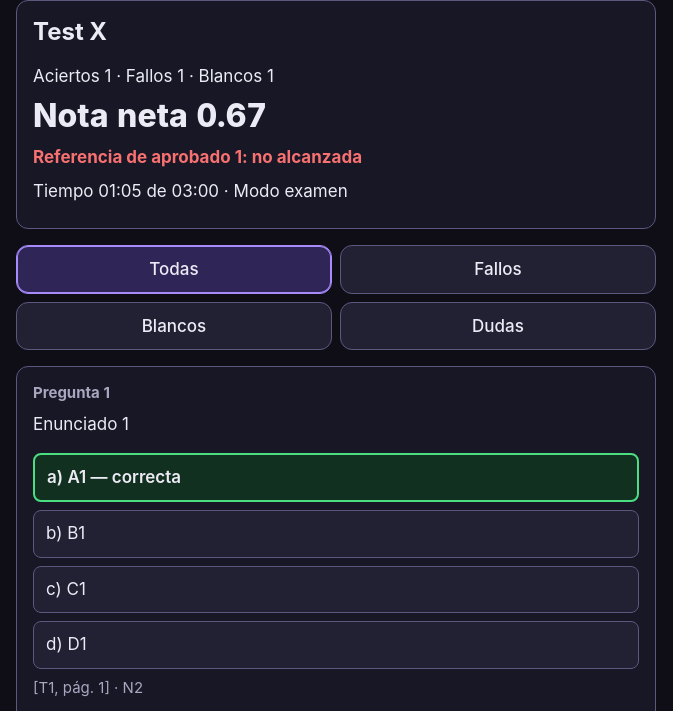
Scenario: Results › filters the review list
Click the button "Fallos".
click(498, 270)  # box [340,245,656,294]
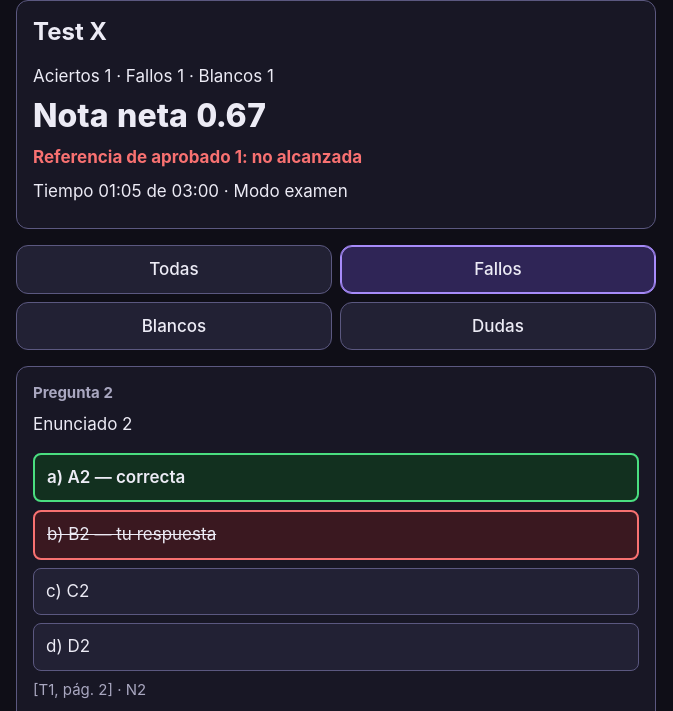
expect the text "Enunciado 2" is shown: met, box [33,414,132,434]
Click the button "Dudas".
click(498, 326)  # box [340,302,656,350]
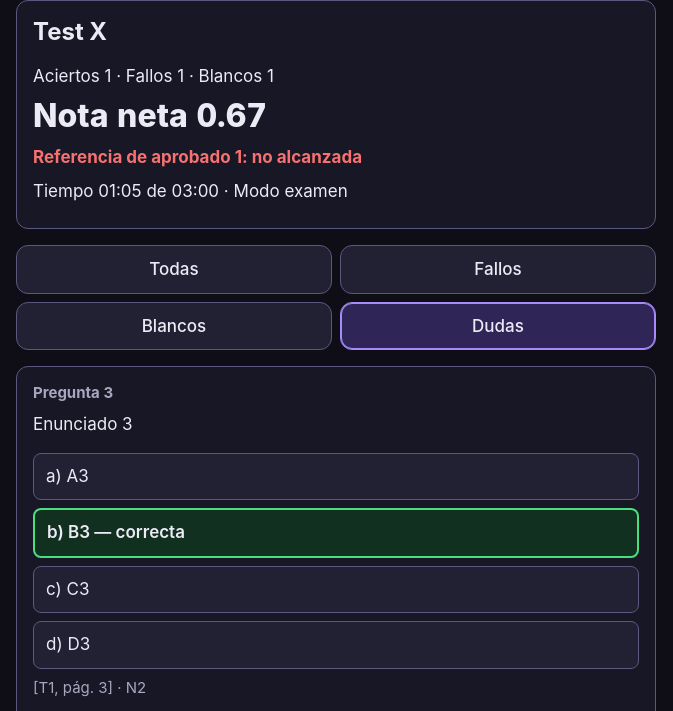
expect the text "Enunciado 3" is shown: met, box [33,414,133,434]
